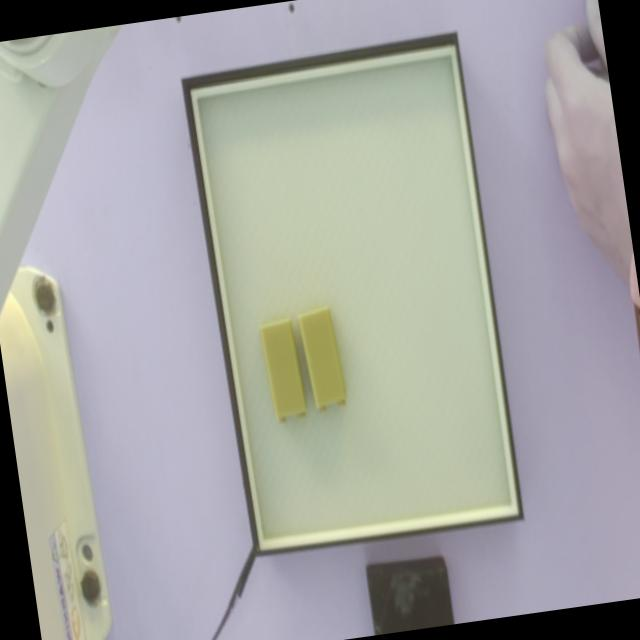bateria: (298, 307, 348, 413), (259, 317, 307, 422)
mesa: (181, 33, 524, 558)
